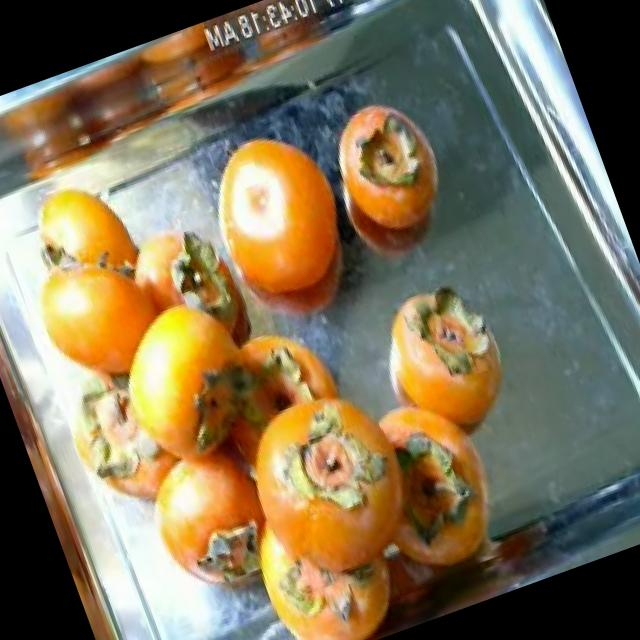Fruit: (350, 260, 520, 441), (4, 150, 162, 322), (314, 77, 466, 254)
